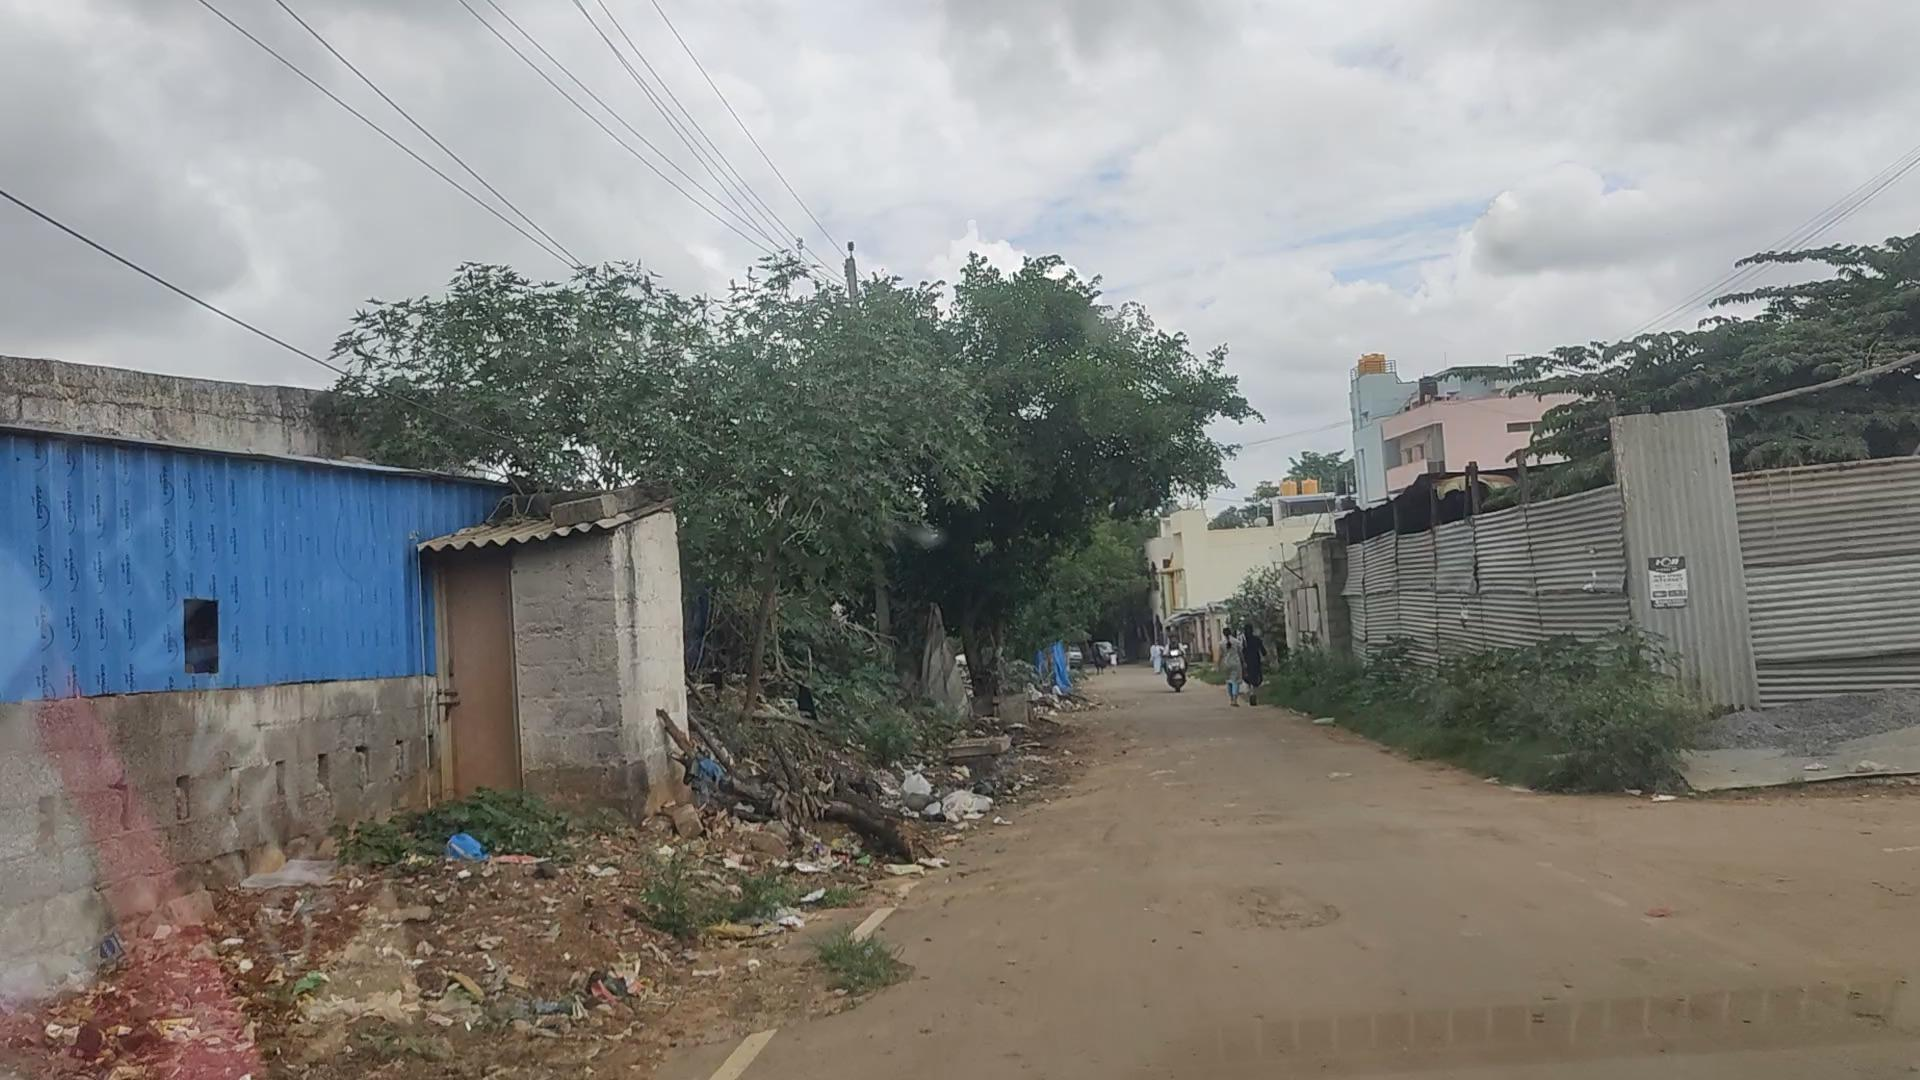RoadDamages: (1211, 865, 1357, 961)
